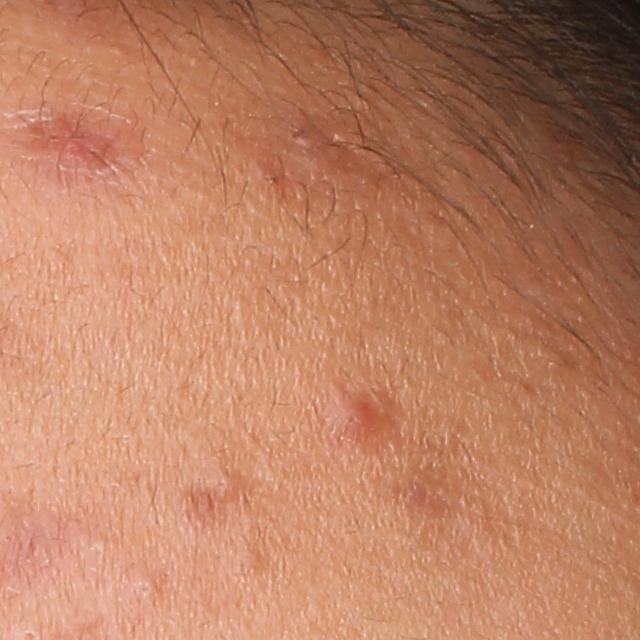comedo: (205, 462, 253, 509), (224, 540, 270, 580), (125, 570, 168, 608)
papule: (317, 386, 388, 452)
